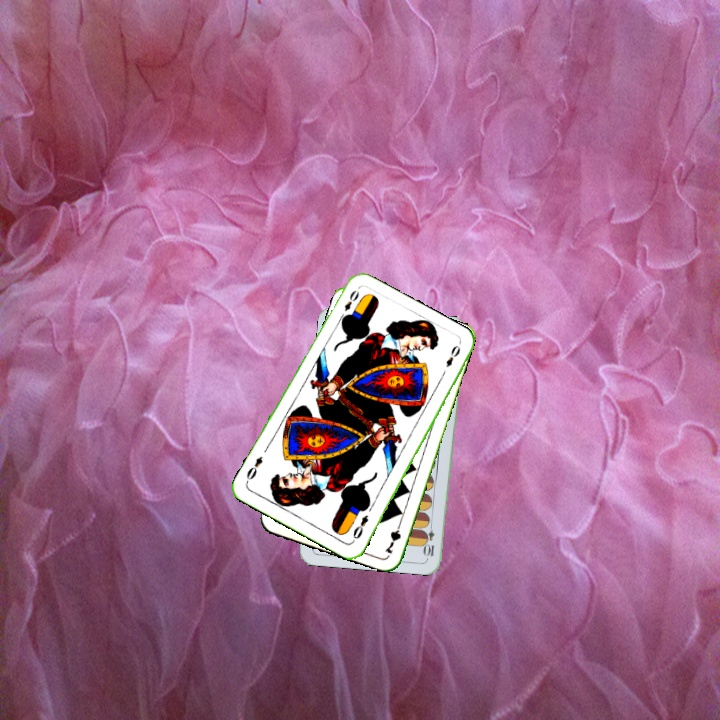E10: (422, 518, 437, 559)
EO: (336, 286, 362, 323), (348, 511, 371, 544)
G7: (381, 517, 404, 556)
